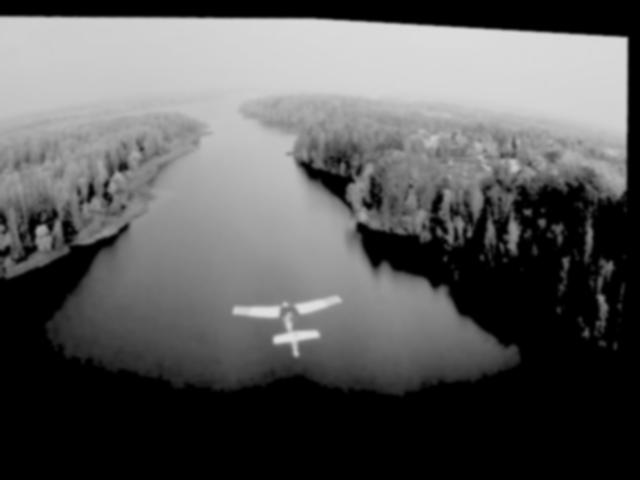hedef: (226, 279, 354, 368)
